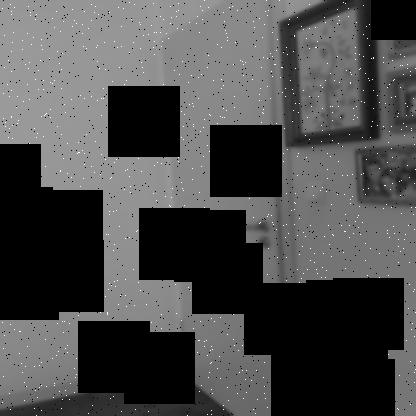Porte: (158, 0, 303, 415)
